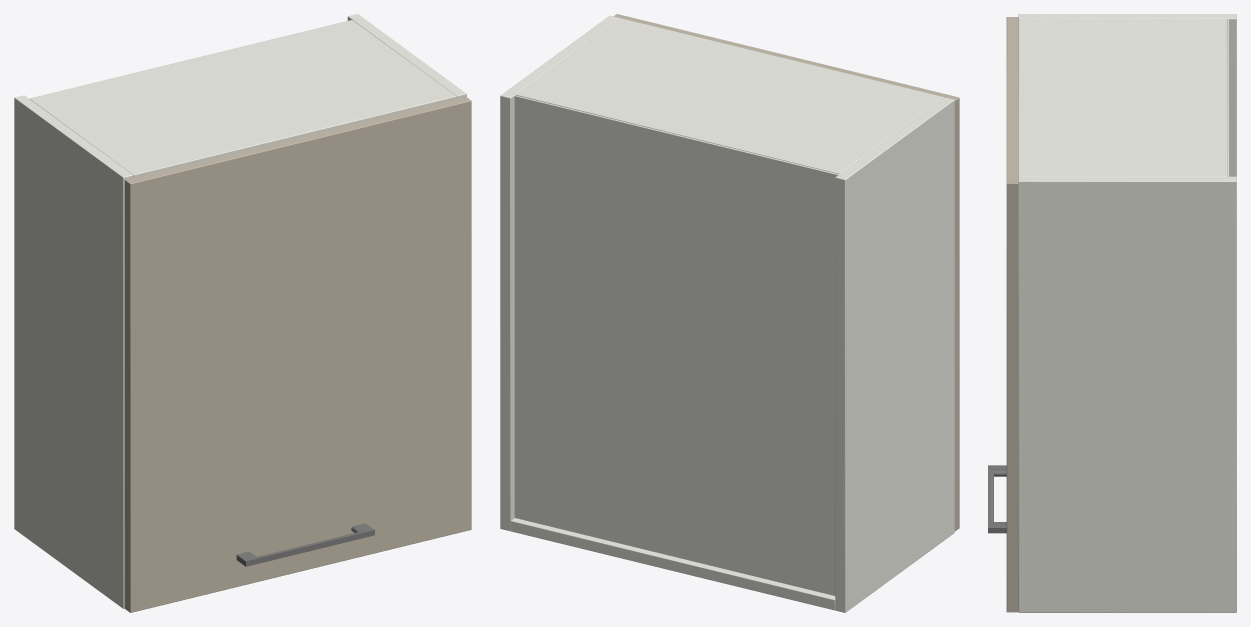
3 renders of one model, left to right at view 1: azimuth 30°, elevation 25°; view 2: azimuth 150°, elevation 25°; view 3: azimuth 270°, elevation 25°, orthographic.
Parts seen in each view (by area): view 1: v5, STRANICA LEVA, VEZNA PREDNJA, Union, STRANICA DESNA; view 2: LEĐA, STRANICA LEVA, VEZNA PREDNJA, STRANICA DESNA, POD, v5; view 3: STRANICA DESNA, VEZNA PREDNJA, v5, STRANICA LEVA, Union.
Boxes of the visible parts, bbox=[...] form: v5: bbox=[124, 96, 471, 612]; STRANICA LEVA: bbox=[14, 95, 133, 608]; VEZNA PREDNJA: bbox=[30, 20, 456, 177]; Union: bbox=[236, 523, 374, 566]; STRANICA DESNA: bbox=[347, 14, 466, 98]; LEĐA: bbox=[514, 95, 838, 595]; STRANICA LEVA: bbox=[835, 97, 954, 612]; VEZNA PREDNJA: bbox=[516, 18, 943, 174]; STRANICA DESNA: bbox=[500, 15, 619, 531]; POD: bbox=[510, 518, 835, 610]; v5: bbox=[613, 14, 959, 531]; STRANICA DESNA: bbox=[1018, 176, 1236, 612]; VEZNA PREDNJA: bbox=[1018, 19, 1226, 176]; v5: bbox=[1006, 17, 1018, 612]; STRANICA LEVA: bbox=[1018, 14, 1236, 176]; Union: bbox=[988, 465, 1006, 533].
Size of the model in its own units: 0.6 by 0.72 by 0.376.
Materials: 3 (2 with a texture image).
